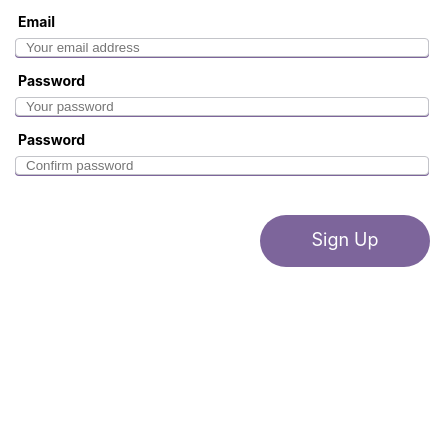
Test: expect invalid input to render error message
Type "test@example.com" into the field with placeholder "Your email address" at [222, 48], box [15, 38, 429, 57]
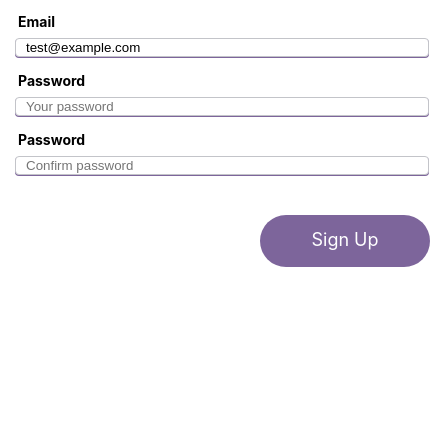
Type "invalid" into the password field with placeholder "Your password" at [222, 106], box [15, 97, 429, 116]
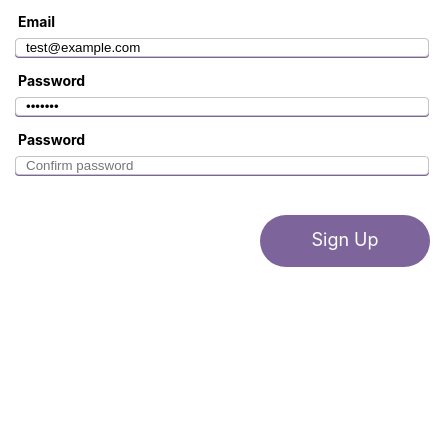
Click the text "Sign Up" at [345, 241], box [260, 215, 430, 267]
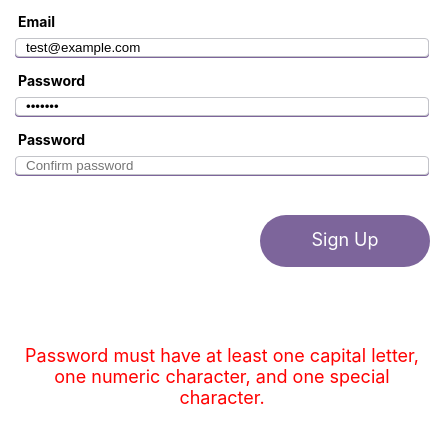
expect the text with test id "error-msg" is shown: met, box [15, 345, 429, 408]
